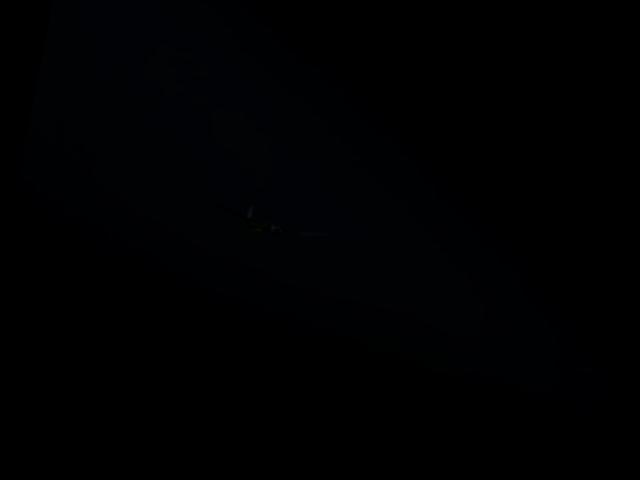flying wing: (197, 183, 332, 270)
